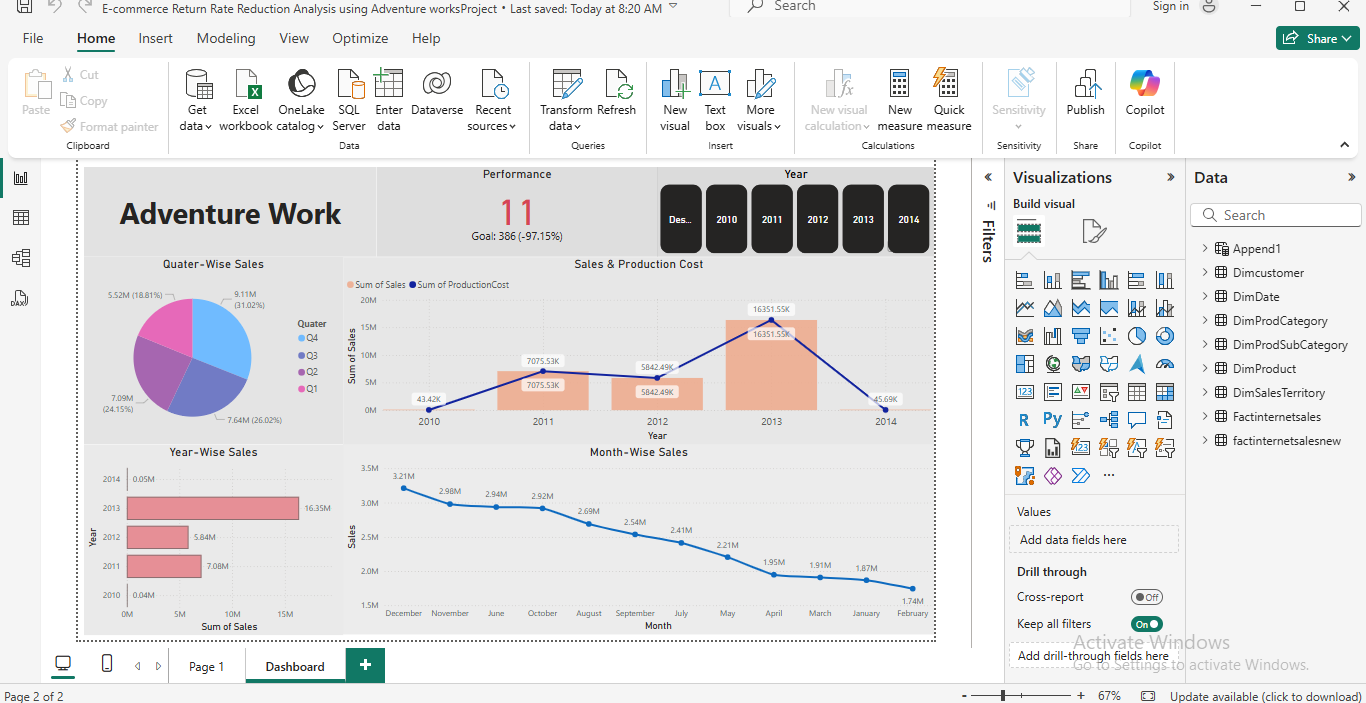

What the dashboard file says about the page in this screenshot:
{"tool":"powerbi","page":{"name":"Dashboard","canvas":[1280,720],"ordinal":2},"visuals":[{"type":"clusteredBarChart","title":"Year-Wise Sales","fields":{"Category":["Append1.Year"],"Y":["Sum(Append1.Sales)"]},"box":[9.6,428.1,387,284],"z":0},{"type":"lineChart","title":"Month-Wise Sales","fields":{"Category":["Append1.Monthfullname"],"Y":["Sum(Append1.Sales)"]},"box":[396.6,428.1,883.7,282.7],"z":1},{"type":"pieChart","title":"Quater-Wise Sales","fields":{"Category":["Append1.Quater"],"Y":["Sum(Append1.Sales)"]},"box":[9.6,148.2,387,279.9],"z":2},{"type":"lineClusteredColumnComboChart","title":"Sales & Production Cost","fields":{"Category":["Append1.Year"],"Y":["Sum(Append1.Sales)"],"Y2":["Sum(Append1.ProductionCost)"]},"box":[396.6,148.2,883.7,279.9],"z":3},{"type":"textbox","box":[9.4,14.1,436.6,134.1],"z":4},{"type":"kpi","title":"Performance","fields":{"Goal":["Count(Append1.CustomerKey)"],"Indicator":["CountNonNull(DimSalesTerritory.SalesTerritoryRegion)"],"TrendLine":["Append1.ProductKey"]},"box":[446,14.1,418.9,134.1],"z":5},{"type":"advancedSlicerVisual","fields":{"Values":["Append1.Year"]},"box":[864.9,14.1,415.4,134.1],"z":6}]}

Visuals, with their boxes on the page's 1280x720 design canvas (x1, y1, x2, y2). These are canvas units, not pixel positions in the 1366x703 screenshot, which may show the page scaled, cropped or inside an application window:
"Year-Wise Sales" clusteredBarChart: Rect(10, 428, 397, 712)
"Month-Wise Sales" lineChart: Rect(397, 428, 1280, 711)
"Quater-Wise Sales" pieChart: Rect(10, 148, 397, 428)
"Sales & Production Cost" lineClusteredColumnComboChart: Rect(397, 148, 1280, 428)
textbox: Rect(9, 14, 446, 148)
"Performance" kpi: Rect(446, 14, 865, 148)
advancedSlicerVisual - Append1.Year: Rect(865, 14, 1280, 148)
